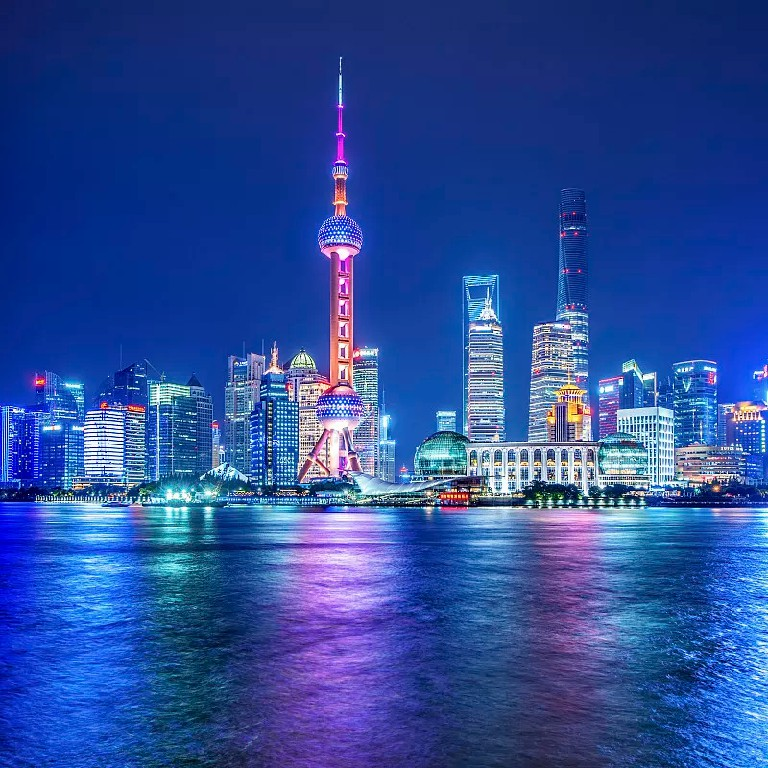Oriental: (296, 53, 364, 484)
